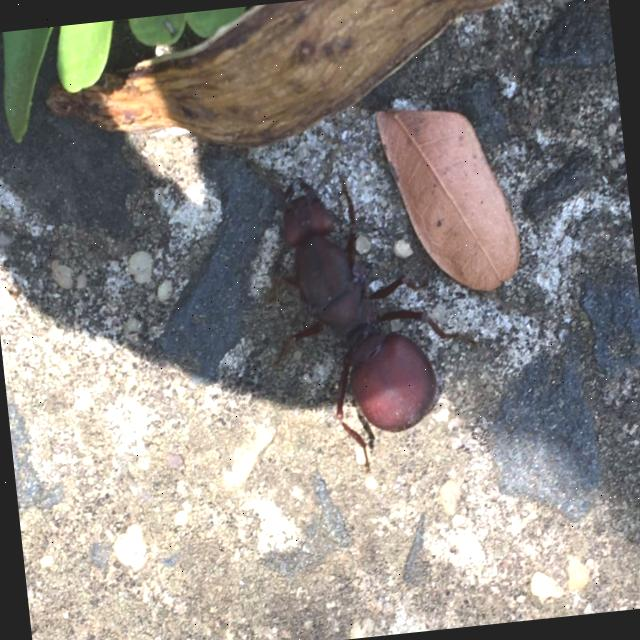Alive-Female-Dealate: (253, 161, 487, 482)
